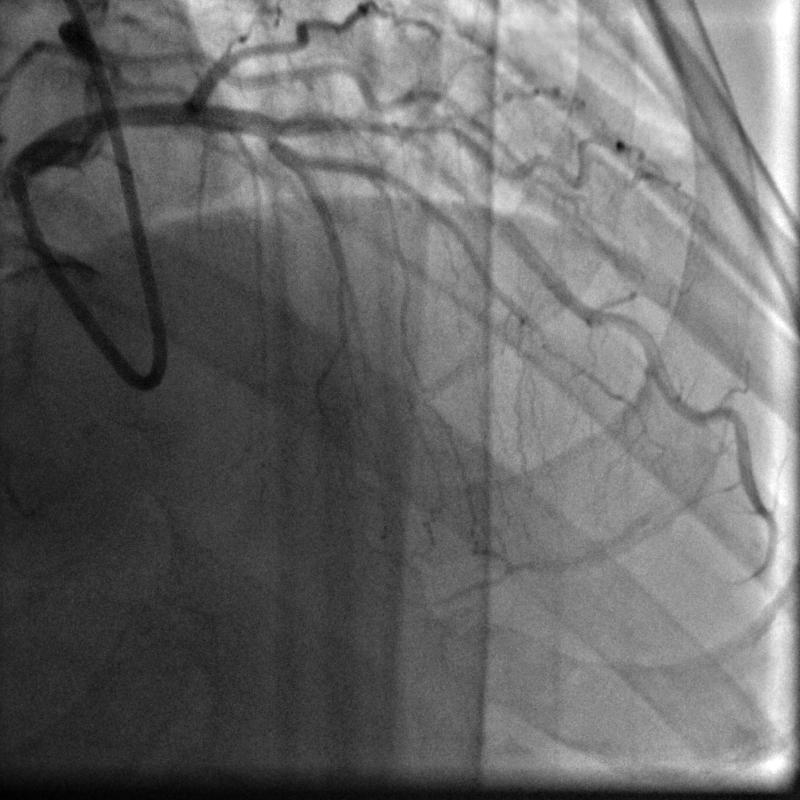Stenosis: (342, 116, 410, 144)
